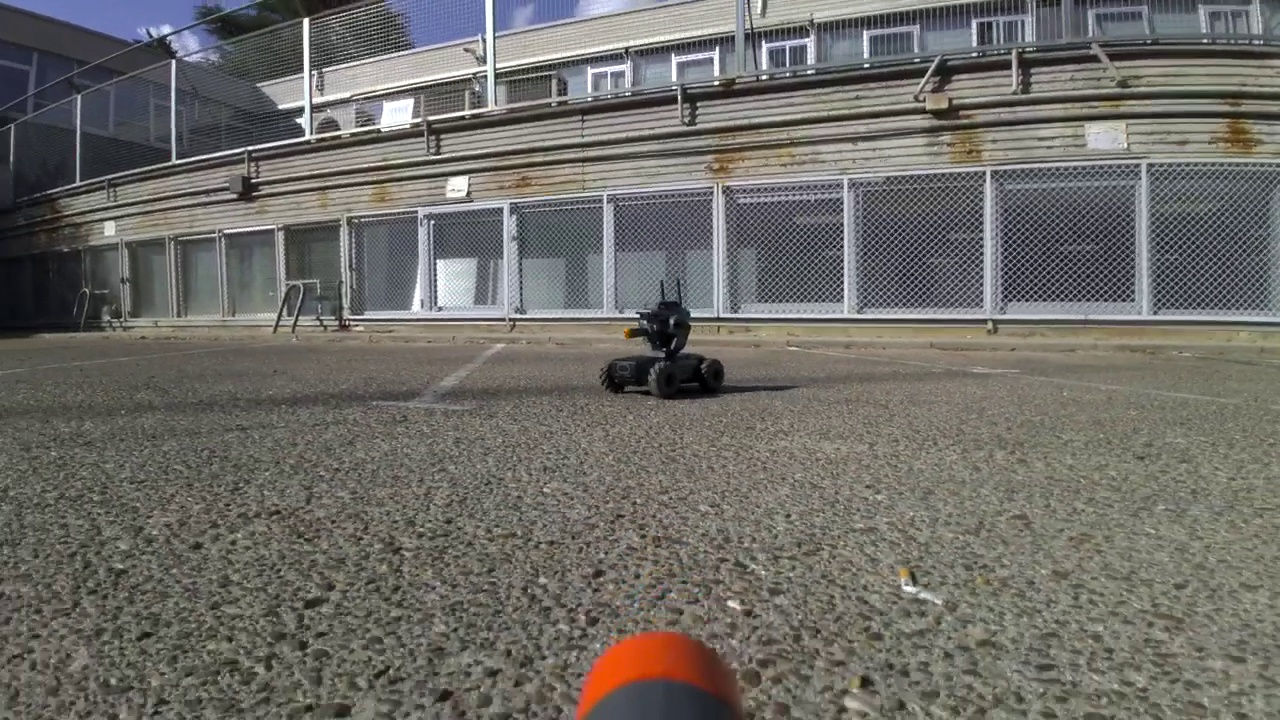robot: (598, 277, 726, 399)
